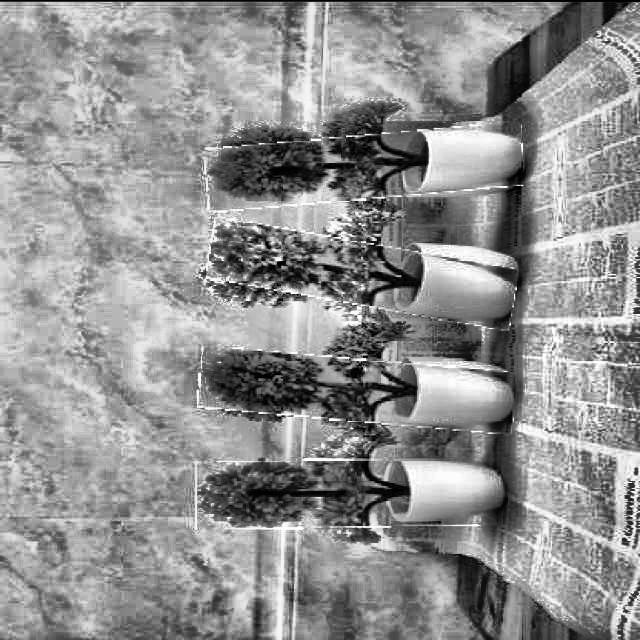plants: (208, 228, 518, 316), (205, 127, 524, 204), (198, 350, 514, 426), (196, 456, 498, 526)
